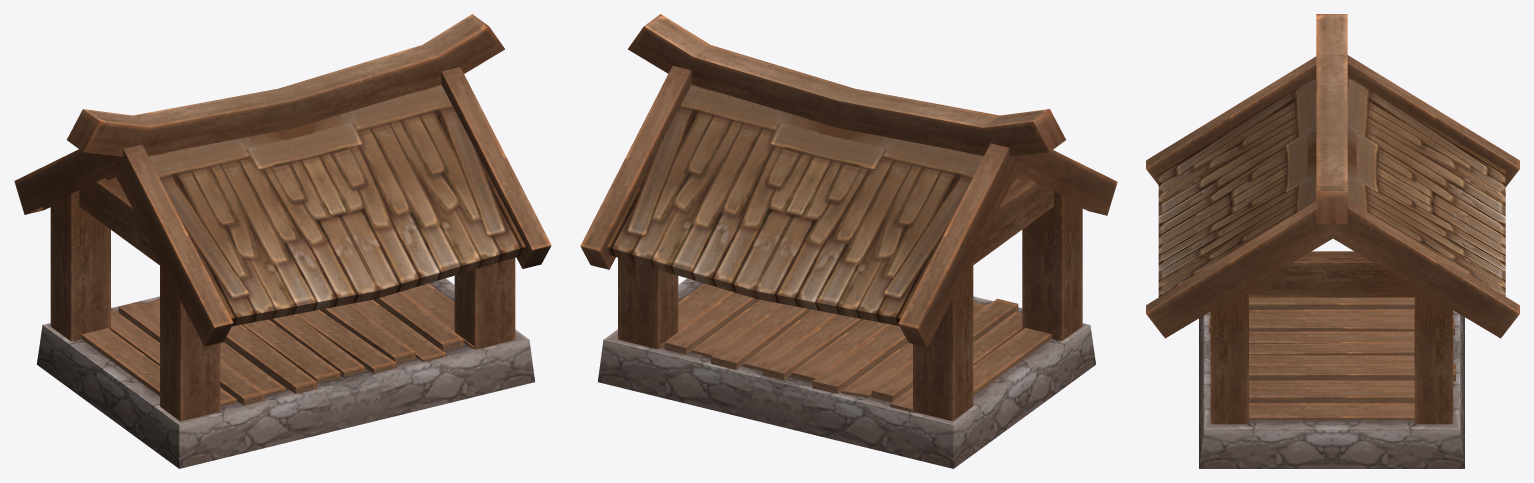
Rendered from FB_CunLuo_Fangwu01.FBX.
3 views of the same model, side by side, from view 1: azimuth 30°, elevation 25°; view 2: azimuth 150°, elevation 25°; view 3: azimuth 270°, elevation 25° (orthographic). The views are drawn at different scales.
Parts seen in each view (by area): view 1: Box22; view 2: Box22; view 3: Box22.
Part boxes in pixels (x1,y1,x2,y2): Box22: [14, 14, 551, 468]; Box22: [580, 14, 1117, 468]; Box22: [1146, 14, 1519, 468].
Size of the model in its own units: 9.82 by 6.8 by 8.07.
